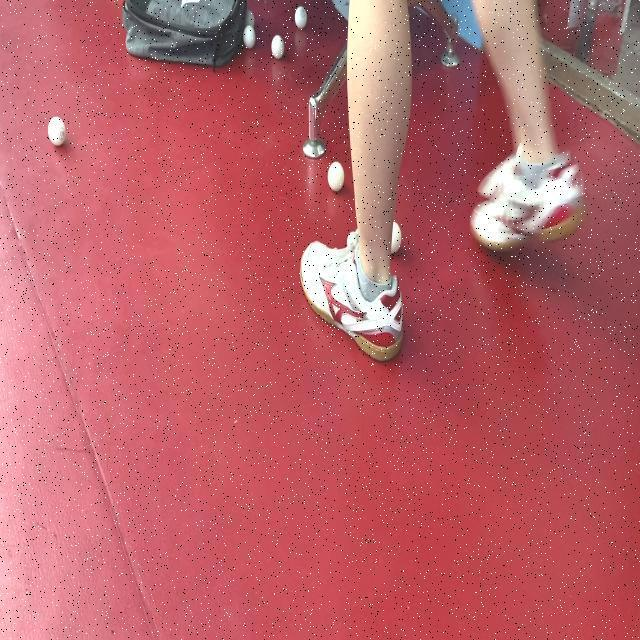ping-pong-ball: (48, 115, 66, 147), (327, 160, 345, 192), (389, 220, 402, 254), (242, 23, 256, 50), (271, 34, 285, 60), (294, 4, 308, 30)
